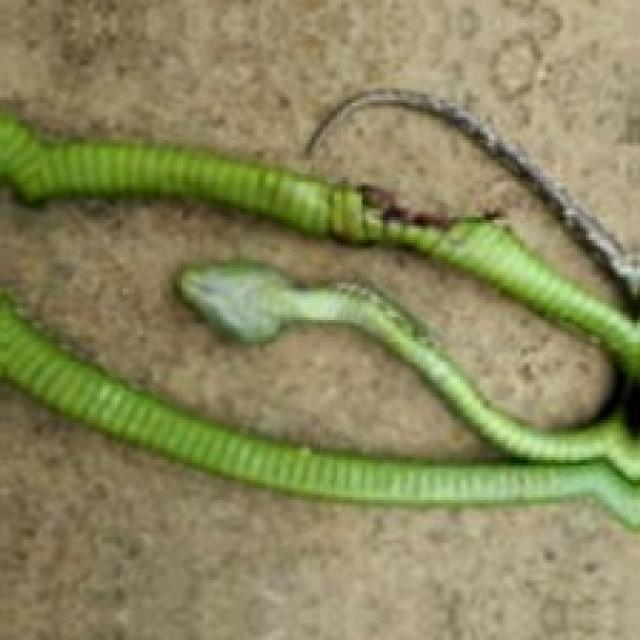philippine pitviper: (0, 111, 637, 529), (306, 89, 640, 302)
